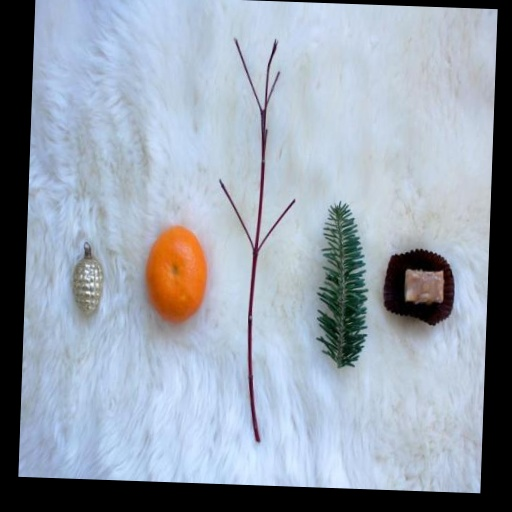fruit: (146, 226, 206, 323)
